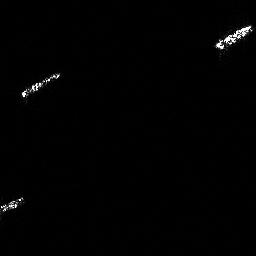ship: (19, 69, 65, 99), (213, 21, 253, 52), (1, 192, 28, 216)
